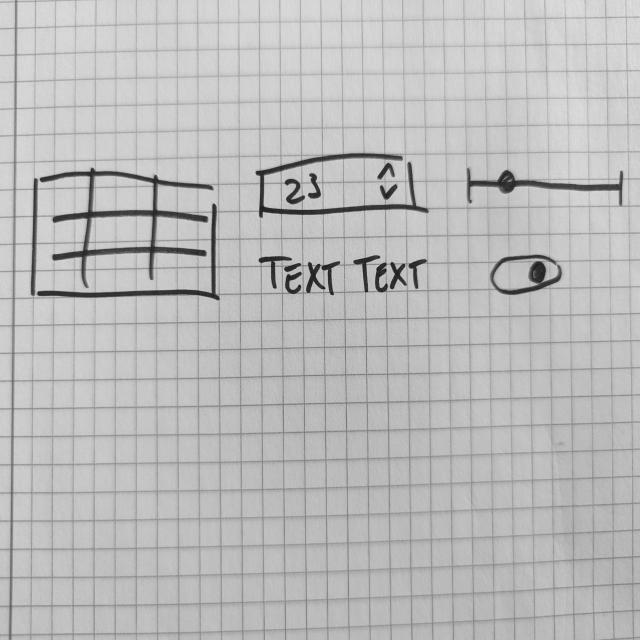label: (257, 253, 433, 300)
number-input: (258, 152, 421, 220)
slider: (464, 162, 629, 212)
table: (30, 165, 225, 304)
toggle: (488, 252, 567, 299)
